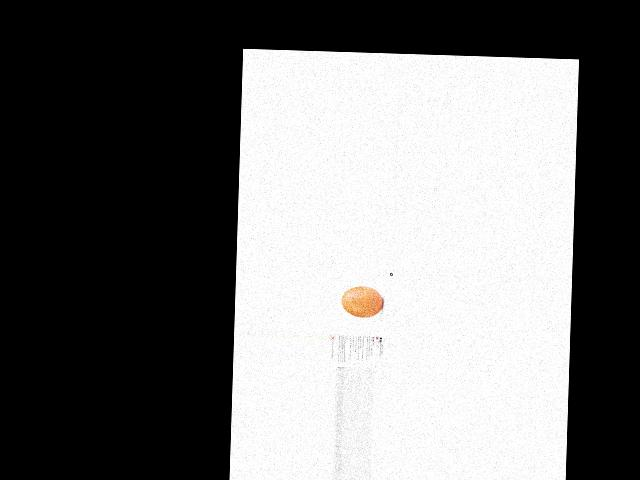egg: (341, 286, 383, 318)
